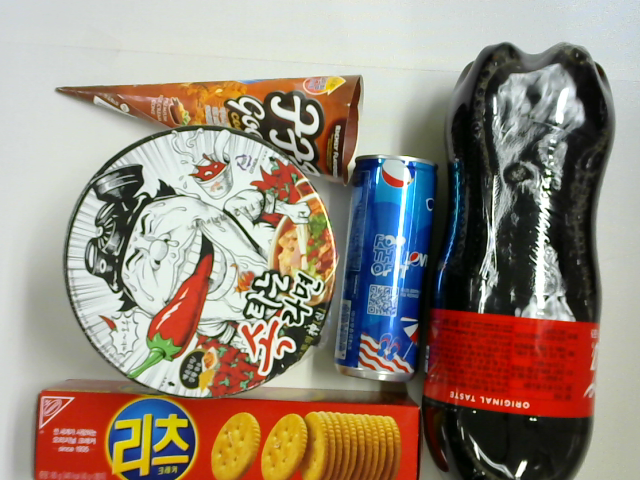Coca_Cola_1.5L: (422, 43, 618, 480)
GooGoo_Cone_CVS: (54, 72, 360, 185)
HeJangsock: (67, 128, 338, 399)
Pepsi_Cola_Can_250ml: (334, 154, 437, 382)
Ritz_Cracker: (32, 382, 427, 480)
